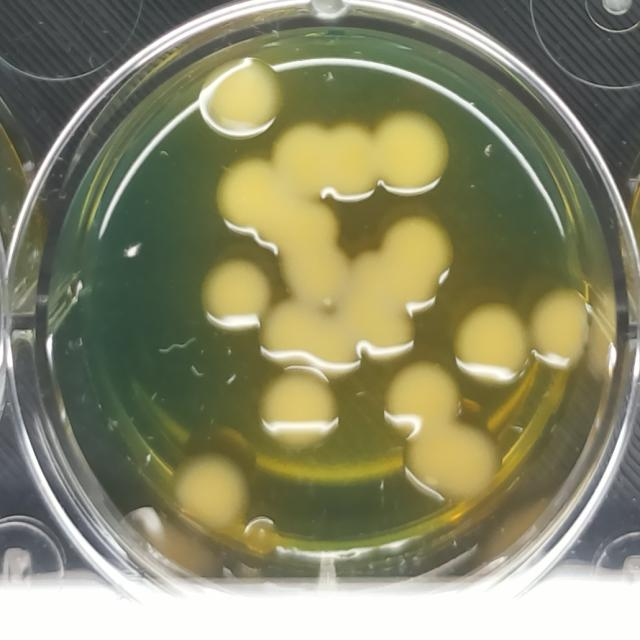vibrio: (348, 208, 458, 366), (380, 358, 500, 501), (214, 156, 340, 252), (251, 301, 365, 378), (270, 118, 374, 200), (195, 52, 289, 141), (251, 364, 343, 449), (372, 106, 453, 198), (169, 449, 250, 536), (453, 301, 533, 382), (527, 286, 592, 373), (197, 256, 270, 332), (282, 241, 356, 305)
